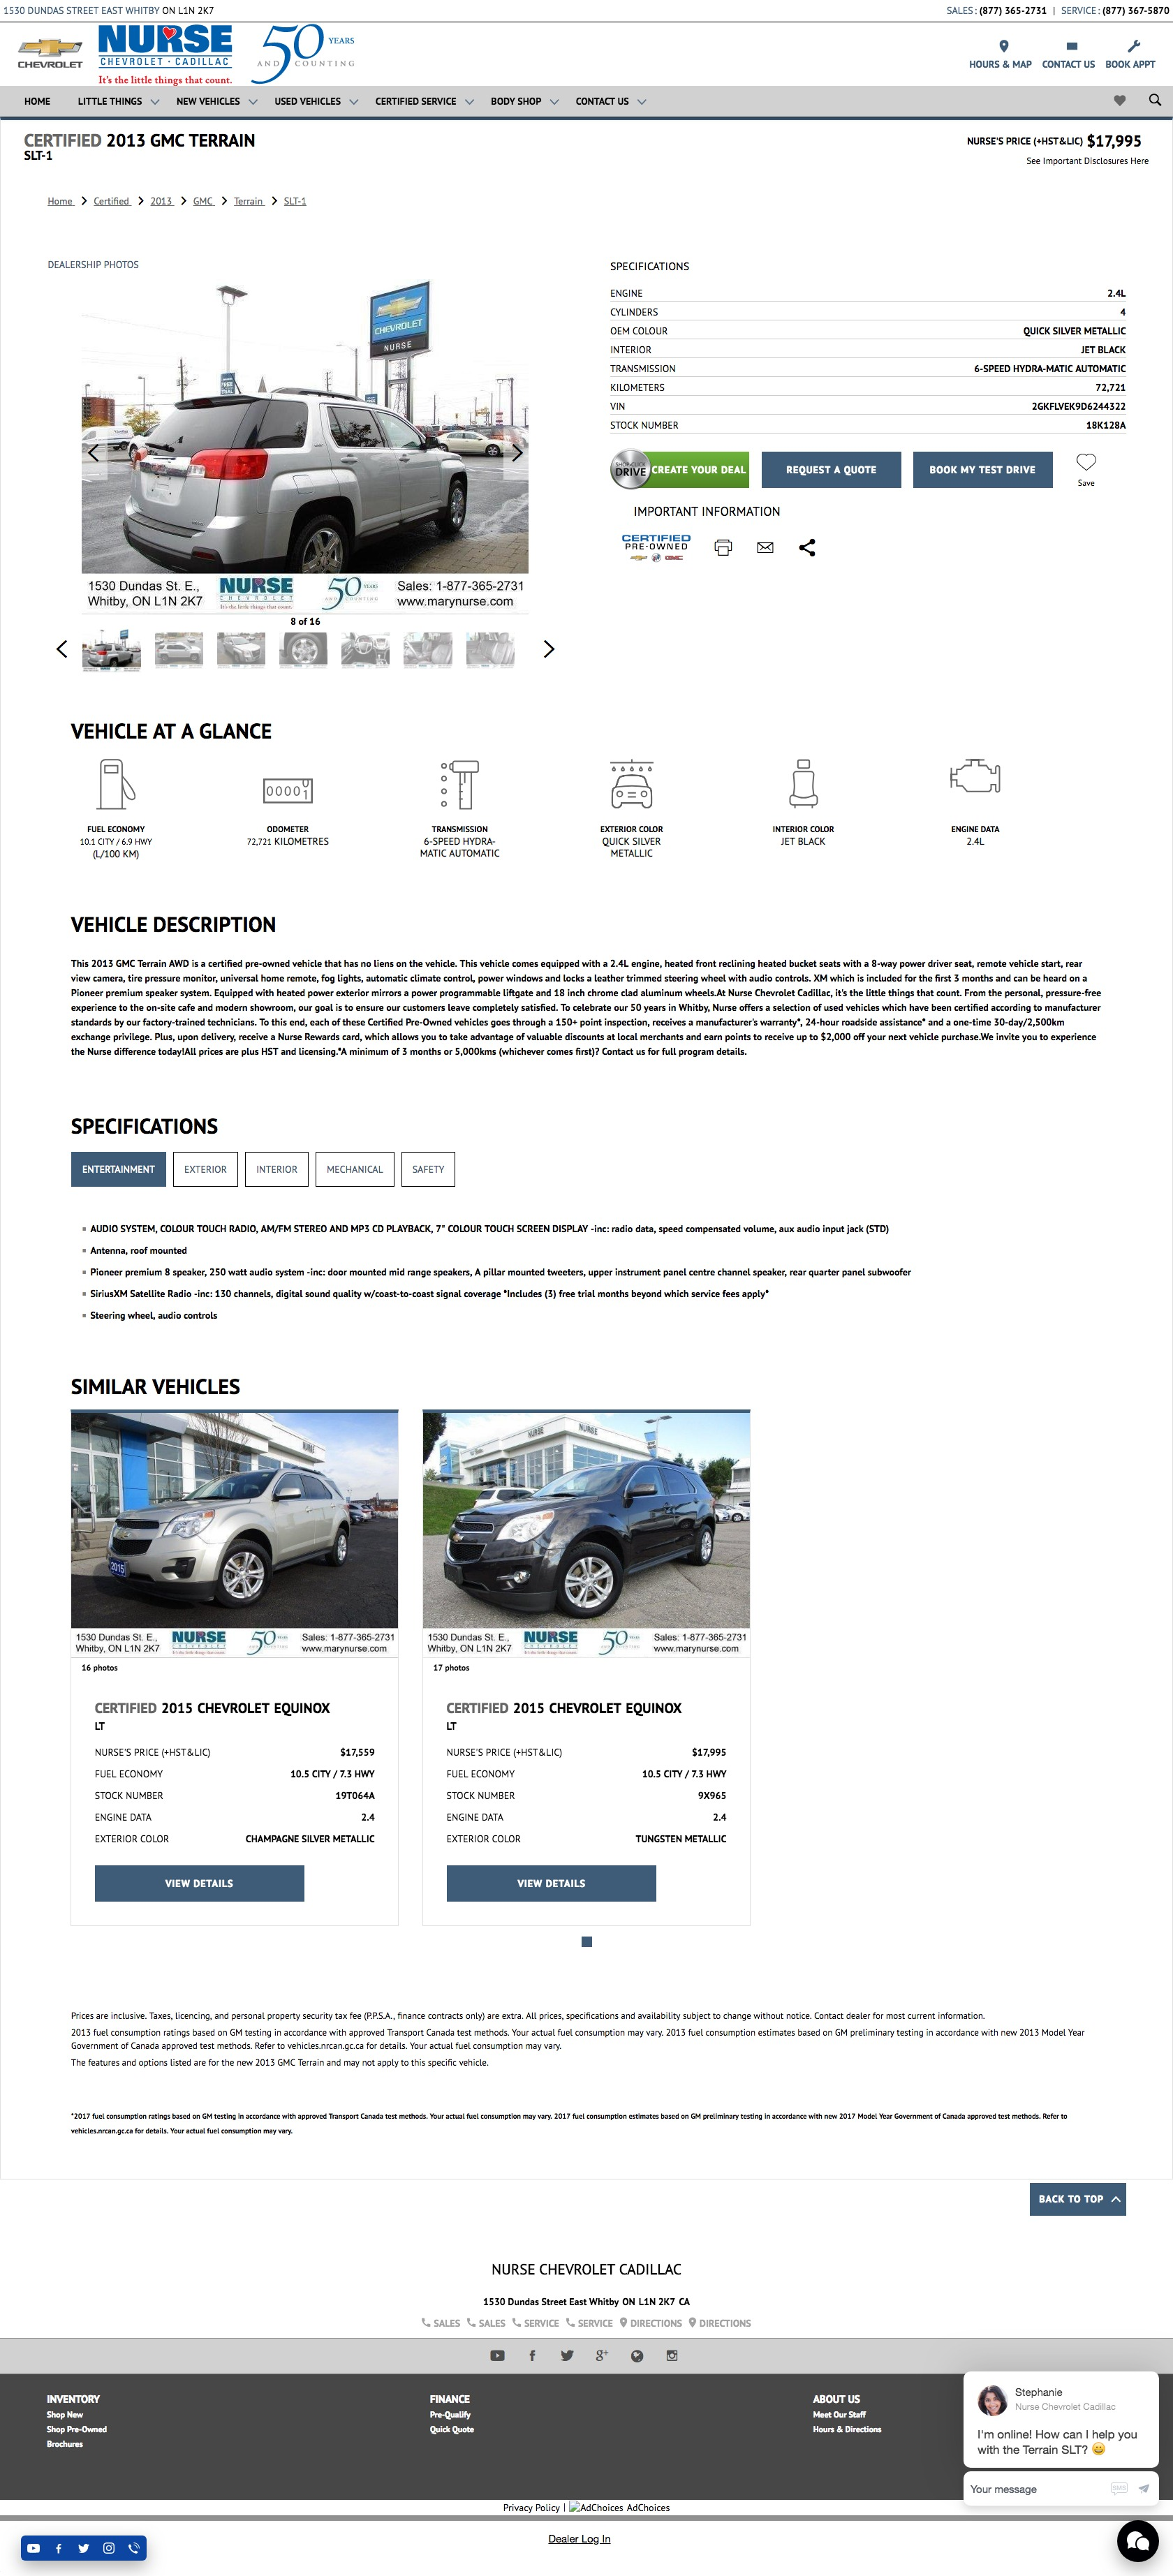car: (544, 639, 559, 659)
